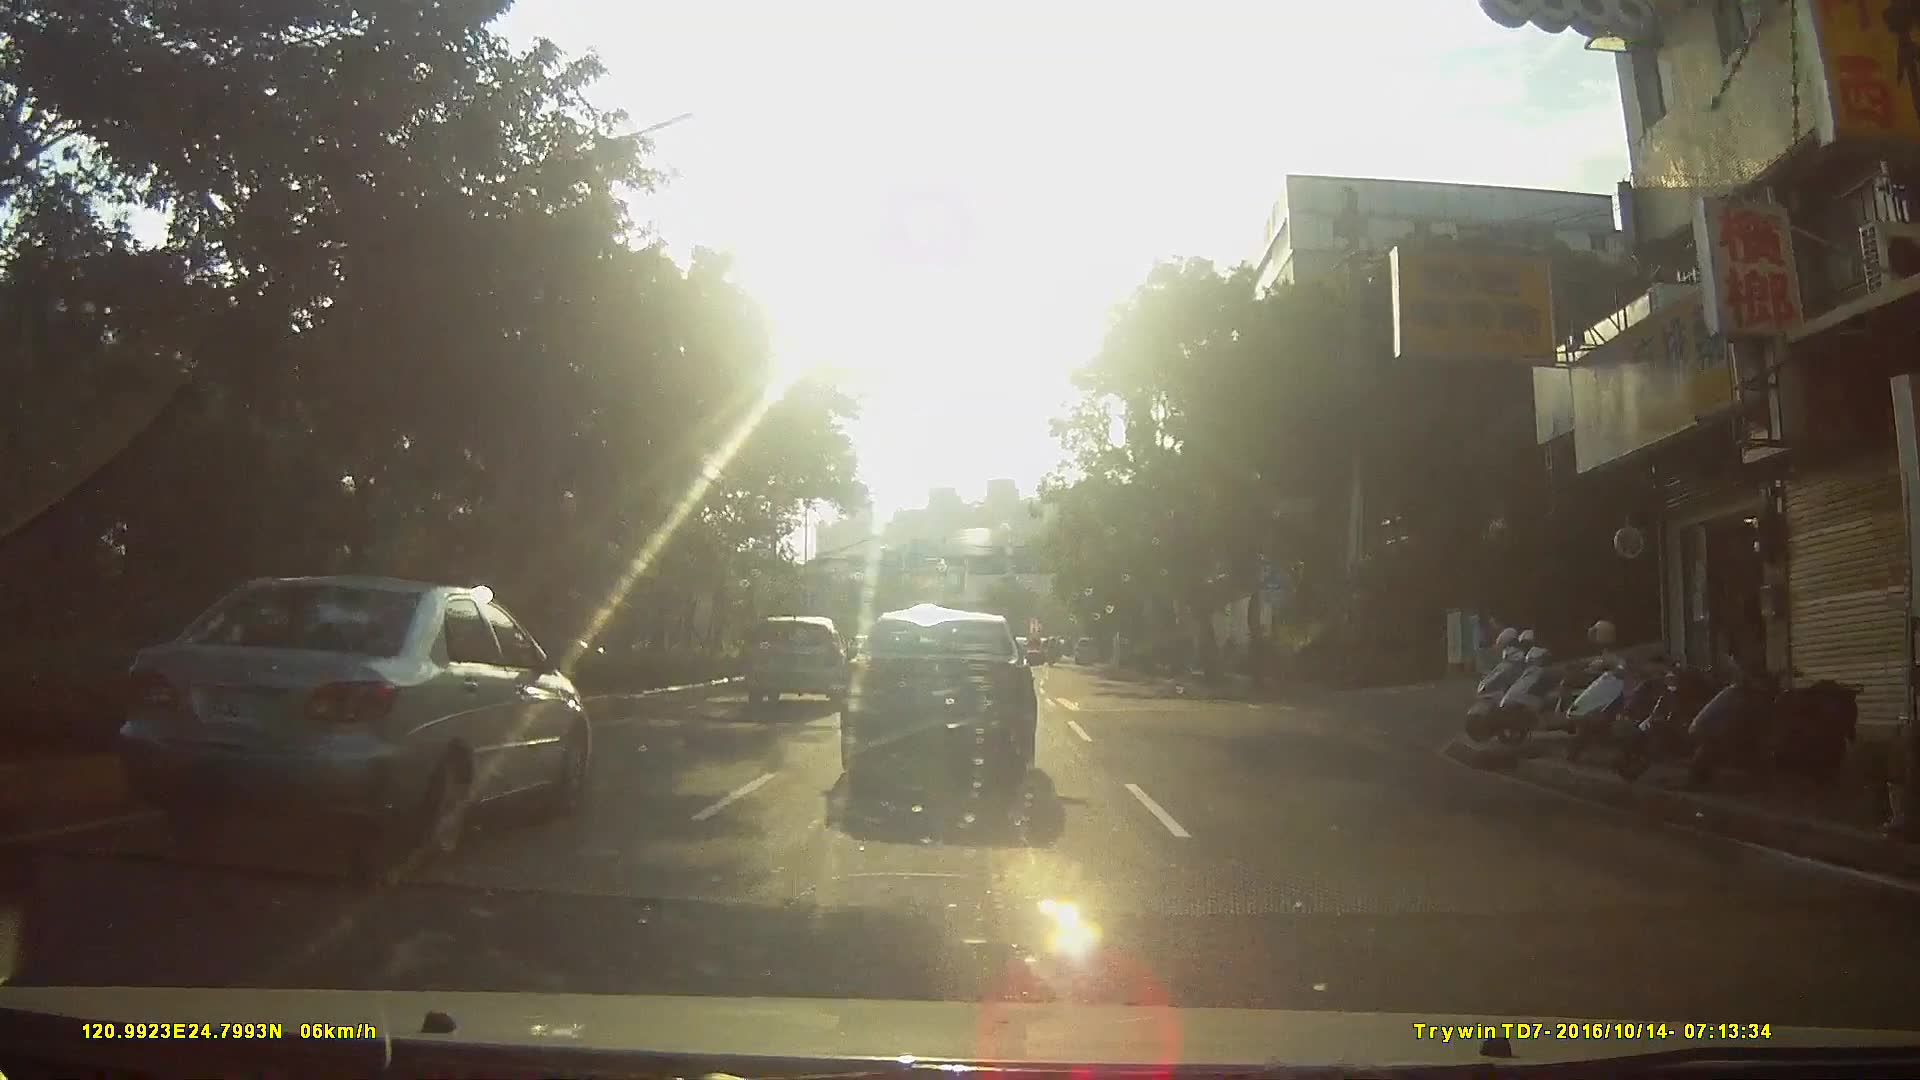vehicle: (65, 578, 596, 876), (844, 611, 1059, 796), (746, 616, 856, 707), (1073, 634, 1105, 665)
